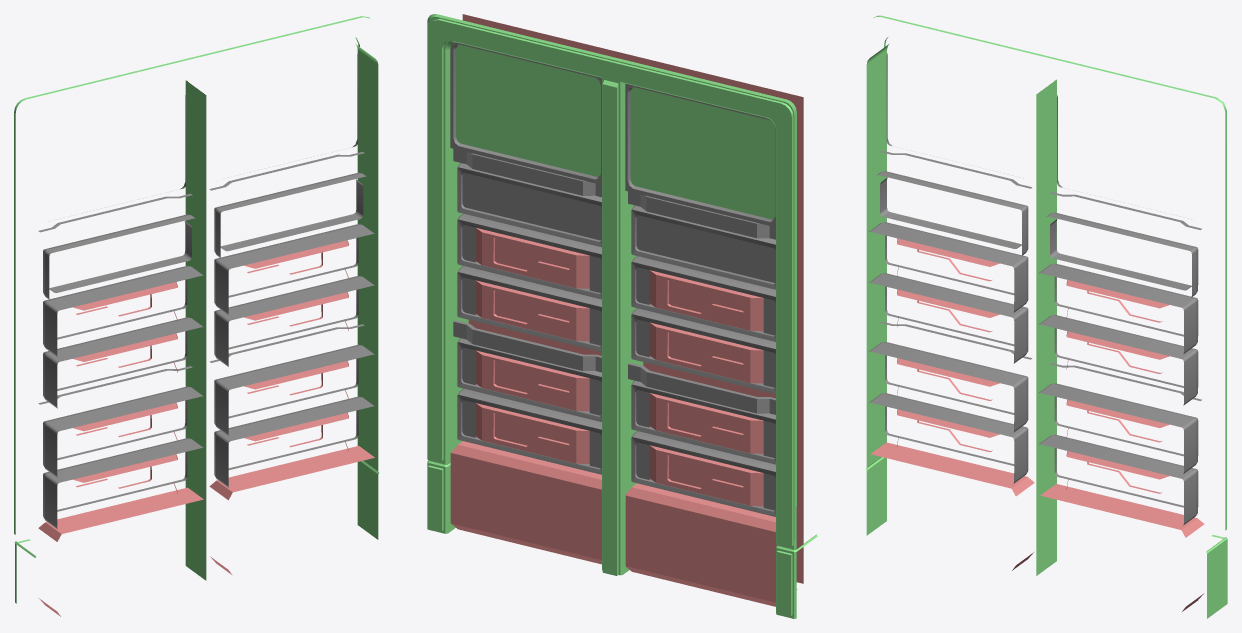
File: S_Envi_FZFBase_Server_01m.gltf
3 renders of one model, left to right at view 1: azimuth 30°, elevation 25°; view 2: azimuth 150°, elevation 25°; view 3: azimuth 330°, elevation 25°, orthographic. The views are drawn at different scales.
Visible parts, largest first — view 1: S_Envi_FZFBase_Server_01m; view 2: S_Envi_FZFBase_Server_01m; view 3: S_Envi_FZFBase_Server_01m.
Boxes of the visible parts, bbox=[...] form: S_Envi_FZFBase_Server_01m: bbox=[14, 16, 378, 616]; S_Envi_FZFBase_Server_01m: bbox=[427, 14, 817, 618]; S_Envi_FZFBase_Server_01m: bbox=[866, 15, 1227, 618].
Size of the model in its own units: 2.61 by 3.48 by 0.3032.
